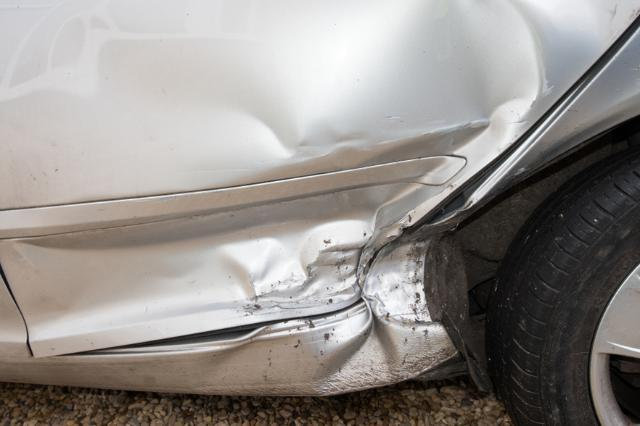Door: (0, 0, 635, 410)
